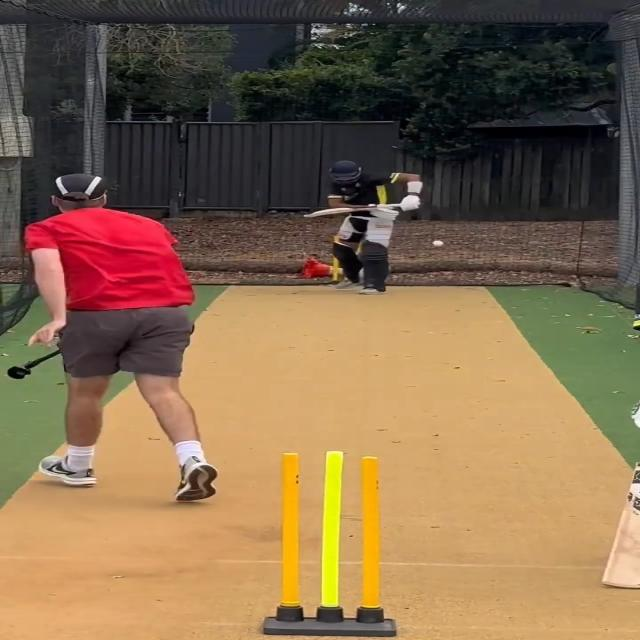ball: (429, 239, 445, 248)
stump: (266, 450, 396, 640)
